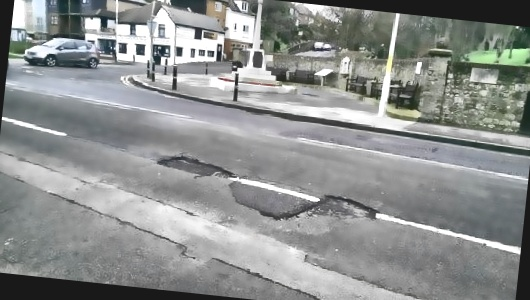pothole: (154, 151, 233, 181), (311, 190, 381, 222)
